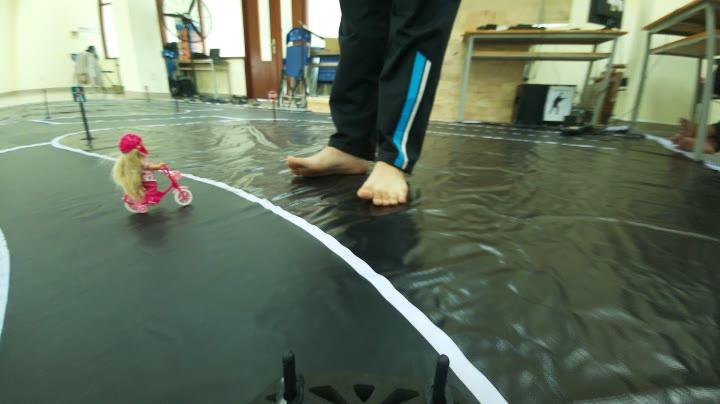pedestrian: (96, 131, 196, 214)
